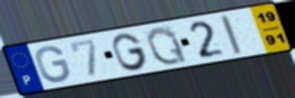2: (188, 20, 227, 60)
7: (66, 37, 99, 78)
G: (110, 32, 150, 72), (34, 44, 73, 84)
I: (218, 14, 245, 57)
Q: (144, 25, 191, 67)
